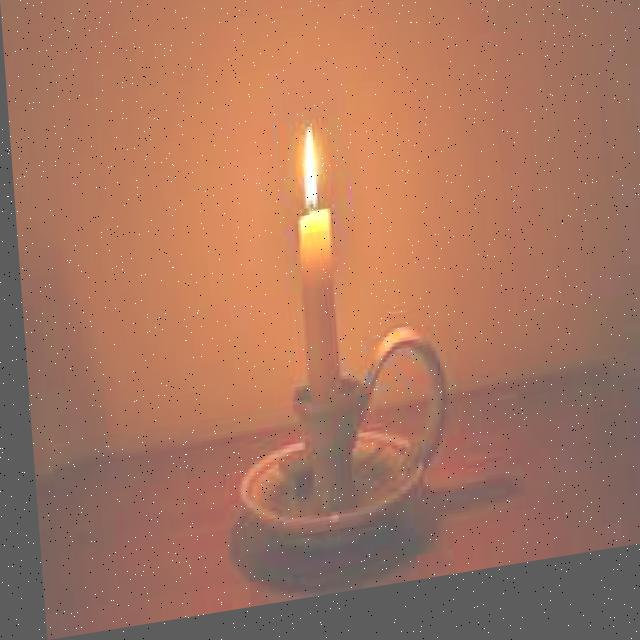Fire: (281, 125, 328, 228)
